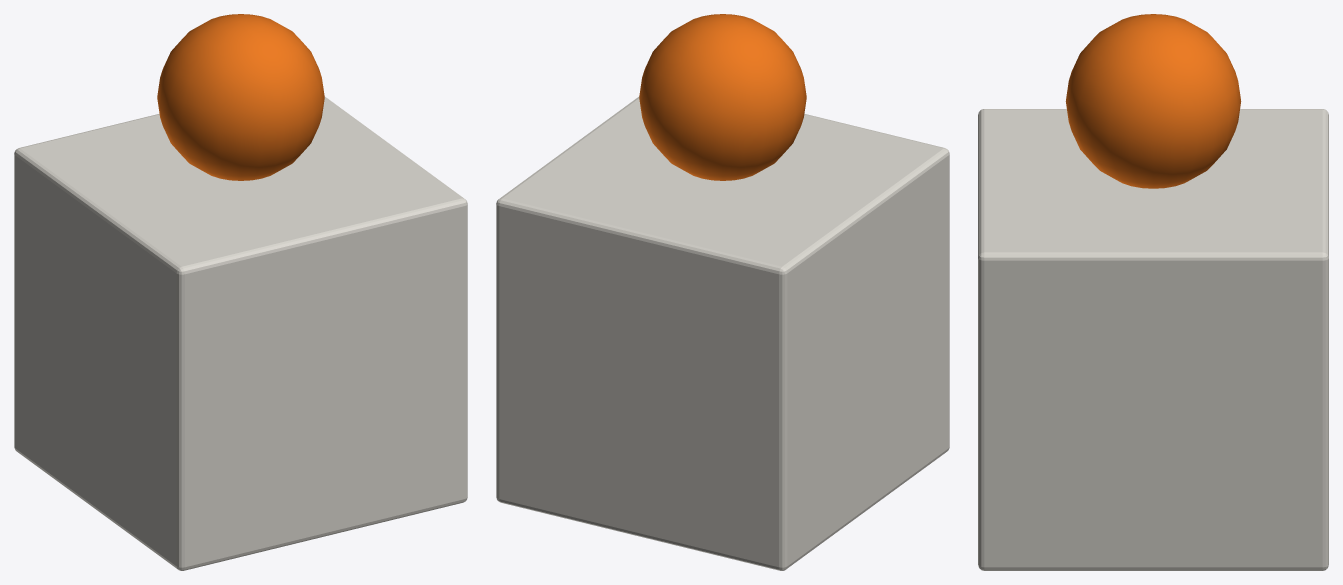
The model's file is _sample.glb.
3 views of the same model, side by side, from view 1: azimuth 30°, elevation 25°; view 2: azimuth 150°, elevation 25°; view 3: azimuth 270°, elevation 25° (orthographic). The views are drawn at different scales.
Parts seen in each view (by area): view 1: sample_body, geometry_touch_sample; view 2: sample_body, geometry_touch_sample; view 3: sample_body, geometry_touch_sample.
Part boxes in pixels (x1,y1,x2,y2): sample_body: [14, 96, 467, 570]; geometry_touch_sample: [157, 14, 324, 180]; sample_body: [496, 96, 949, 570]; geometry_touch_sample: [639, 14, 806, 180]; sample_body: [978, 109, 1328, 570]; geometry_touch_sample: [1065, 14, 1241, 188].
Bounding box in the file's own units: 0.28 × 0.42 × 0.28.
